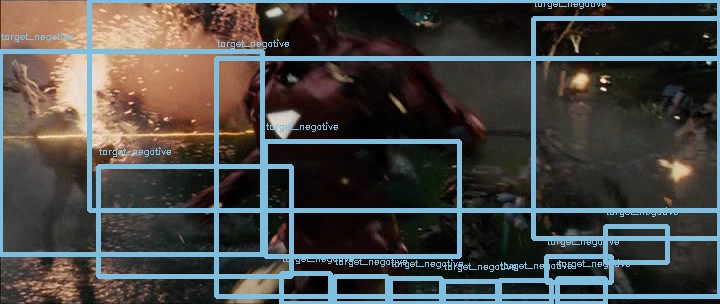person: (258, 1, 326, 64), (257, 1, 325, 64), (259, 1, 327, 64), (258, 0, 326, 63), (258, 2, 326, 65)
target_negative: (107, 34, 541, 111), (317, 279, 408, 296), (392, 220, 404, 296), (604, 243, 616, 297), (387, 205, 402, 247)
